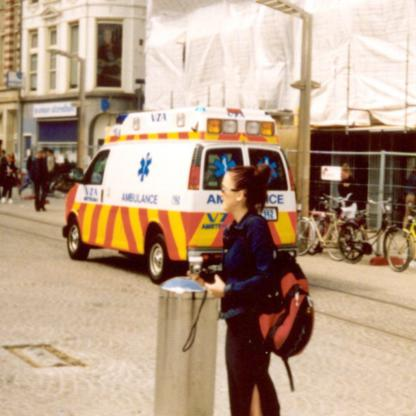Ambulance: (62, 100, 302, 294)
